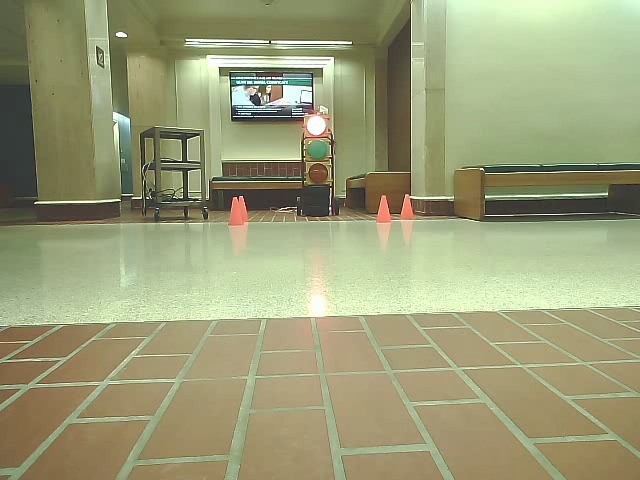red: (301, 110, 336, 188)
